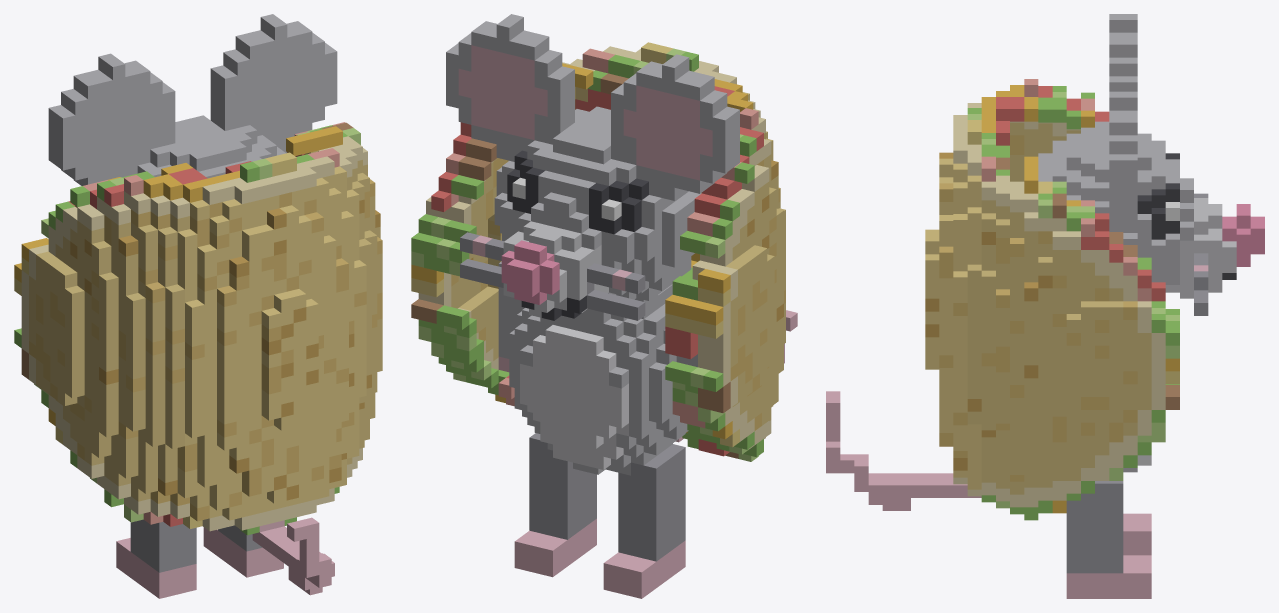
The model's file is TipiTopiTaco.glb.
3 views of the same model, side by side, from view 1: azimuth 30°, elevation 25°; view 2: azimuth 150°, elevation 25°; view 3: azimuth 270°, elevation 25° (orthographic). The views are drawn at different scales.
Parts seen in each view (by area): view 1: geometry_0; view 2: geometry_0; view 3: geometry_0.
Part boxes in pixels (x1,y1,x2,y2): geometry_0: (14,14,382,598); geometry_0: (411,14,797,598); geometry_0: (826,14,1264,598).
Bounding box in the file's own units: 0.6 × 1 × 0.775.
